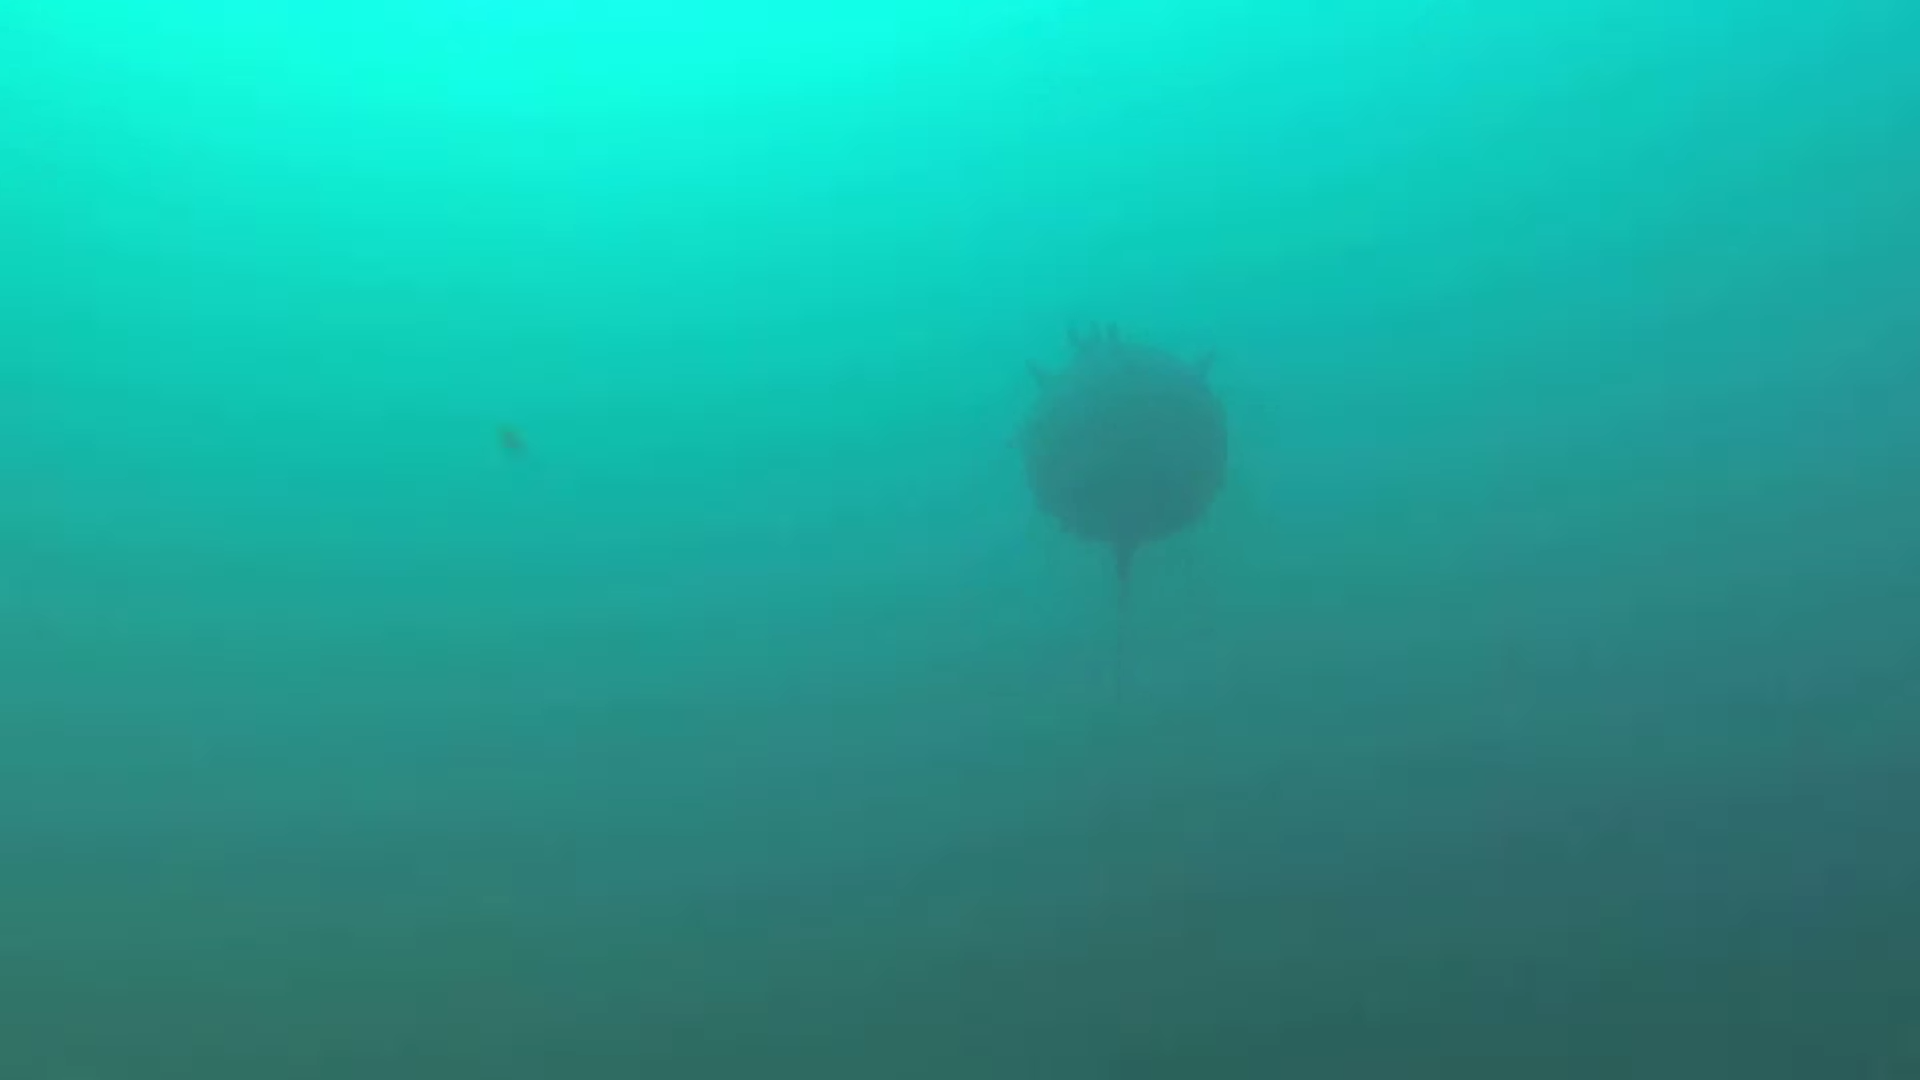Mines: (998, 324, 1246, 558)
